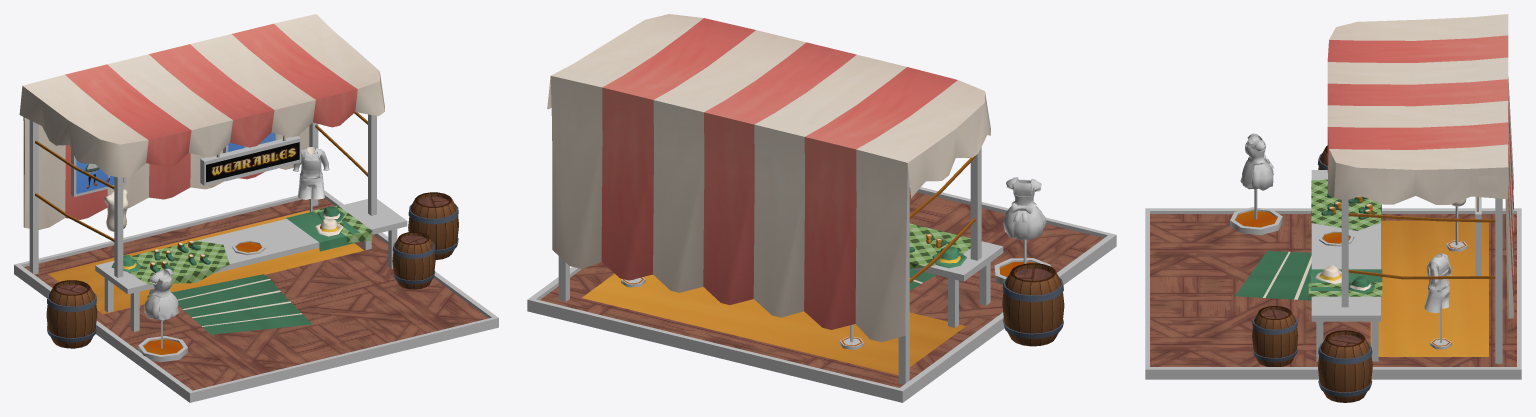
Rendered from Booth_Wearables_Art.fbx.
3 renders of one model, left to right at view 1: azimuth 30°, elevation 25°; view 2: azimuth 150°, elevation 25°; view 3: azimuth 270°, elevation 25°, orthographic. The views are drawn at different scales.
Visible parts, largest first — view 1: Oktoberfest_Booth_Wearables, Oktoberfest_Booth_Wearables_Platform01; view 2: Oktoberfest_Booth_Wearables, Oktoberfest_Booth_Wearables_Platform01; view 3: Oktoberfest_Booth_Wearables, Oktoberfest_Booth_Wearables_Platform01, Oktoberfest_Booth_Wearables_Platform01__1_.
Part boxes in pixels (bbox=[...]): Oktoberfest_Booth_Wearables: bbox=[14, 14, 498, 402]; Oktoberfest_Booth_Wearables_Platform01: bbox=[138, 336, 187, 362]; Oktoberfest_Booth_Wearables: bbox=[527, 14, 1116, 402]; Oktoberfest_Booth_Wearables_Platform01: bbox=[994, 258, 1050, 284]; Oktoberfest_Booth_Wearables: bbox=[1145, 14, 1521, 402]; Oktoberfest_Booth_Wearables_Platform01: bbox=[1230, 207, 1282, 235]; Oktoberfest_Booth_Wearables_Platform01__1_: bbox=[1319, 230, 1354, 246].
Size of the model in its own units: 868 by 394 by 651.
